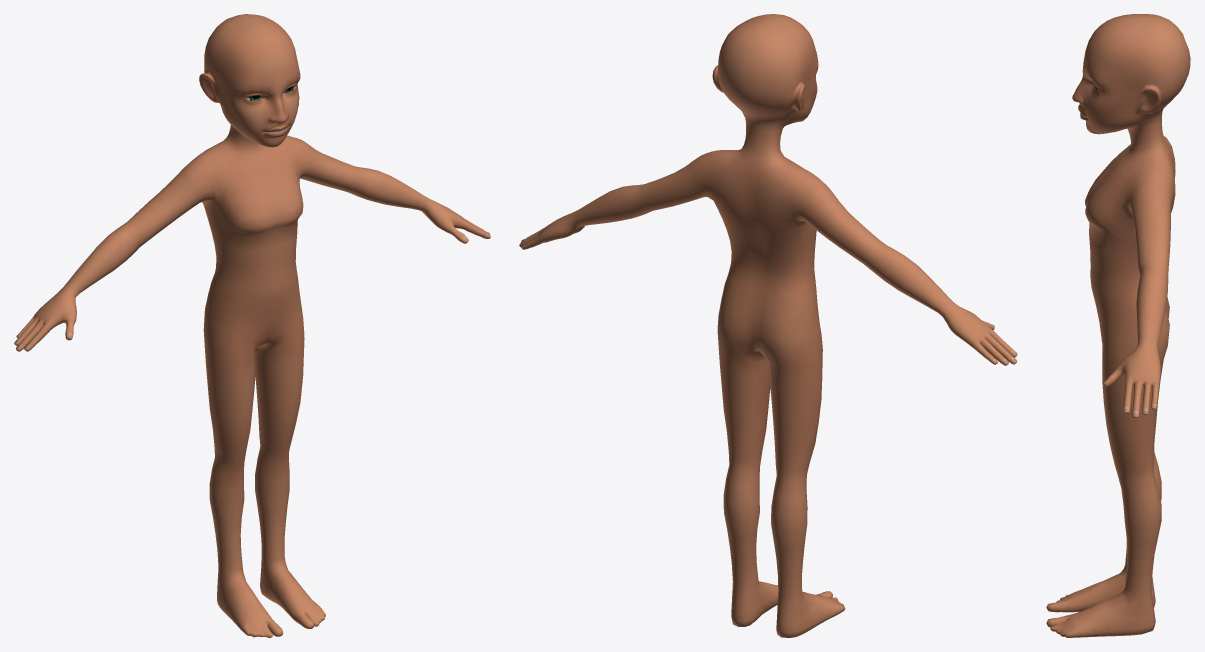
The model's file is frame_0087.glb.
3 renders of one model, left to right at view 1: azimuth 30°, elevation 25°; view 2: azimuth 150°, elevation 25°; view 3: azimuth 270°, elevation 25°, orthographic. The views are drawn at different scales.
Parts seen in each view (by area): view 1: frame_0087_head_geo; view 2: frame_0087_head_geo; view 3: frame_0087_head_geo.
Part boxes in pixels (x1,y1,x2,y2): frame_0087_head_geo: [14, 14, 490, 637]; frame_0087_head_geo: [519, 14, 1017, 637]; frame_0087_head_geo: [1046, 14, 1190, 637].
Bounding box in the file's own units: 1.28 × 1.5 × 0.3253.
3 materials, 3 textured.
